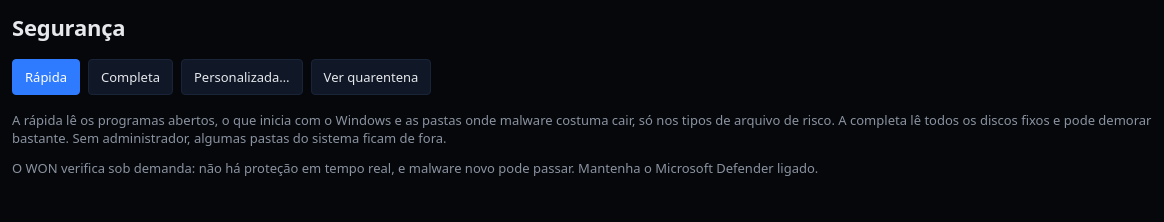
Test case: Segurança › mostra o erro quando a verificação não pode começar
What coordinates should you click on to do the following:
click the button "Rápida"
I would click on:
 (46, 77)
Its box is [12,59,80,95].
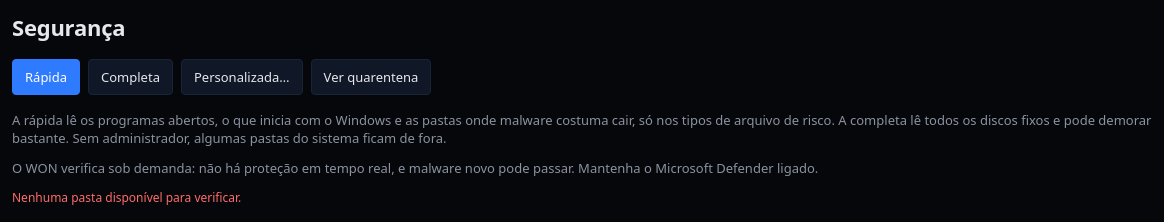
Expected: the message reads "Nenhuma pasta disponível para verificar.", [12,188,241,206]
